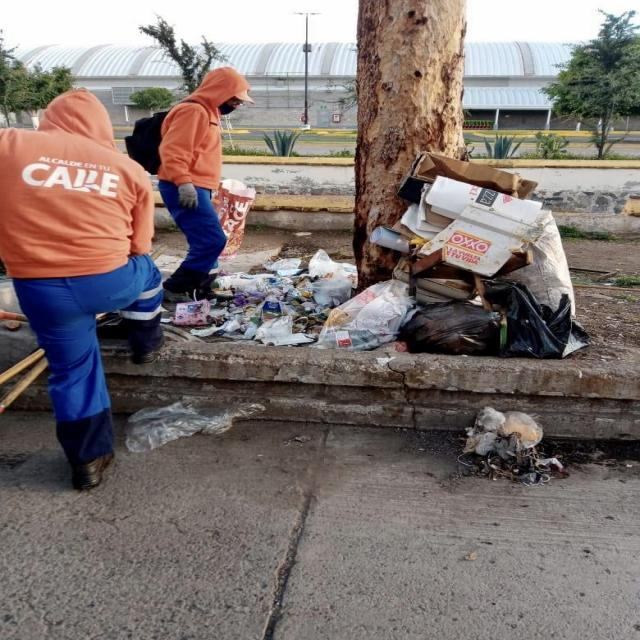garbage: (190, 156, 620, 361), (454, 403, 576, 491)
